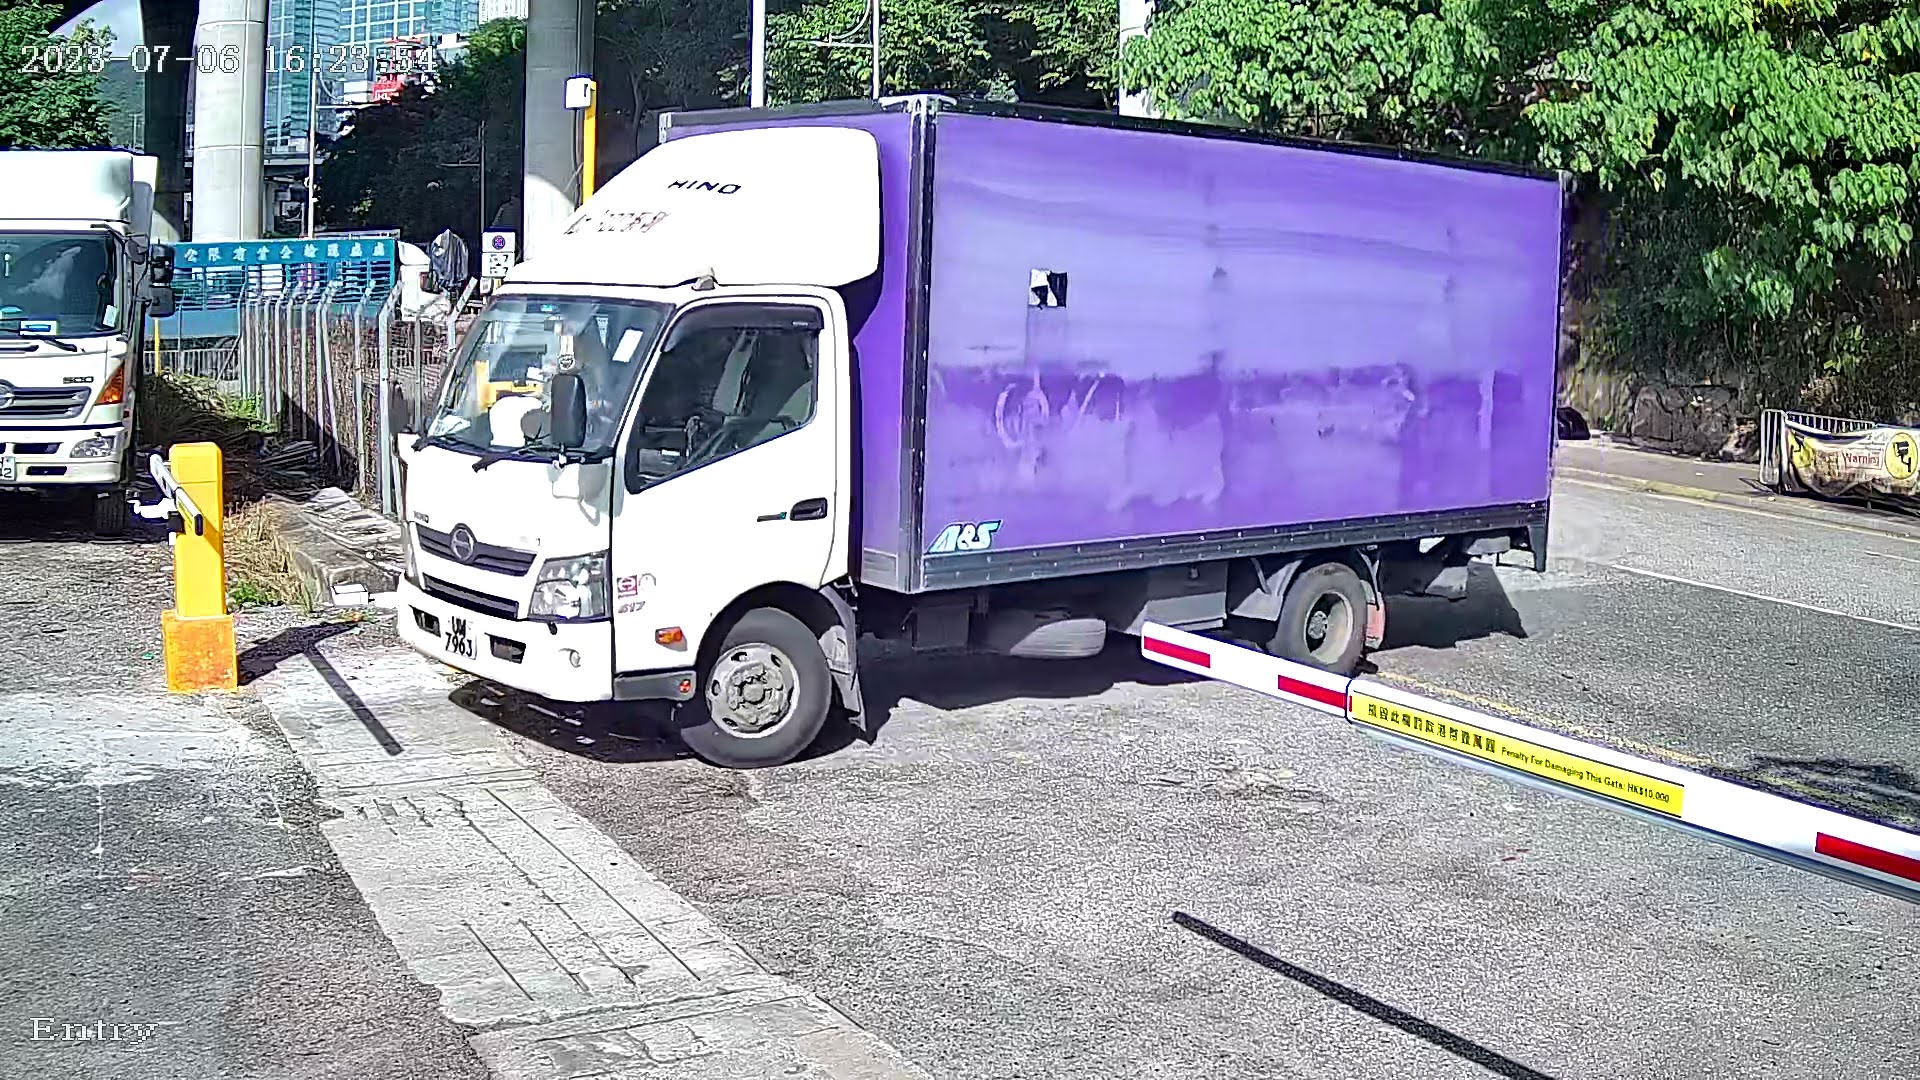truck: (347, 75, 1607, 851)
